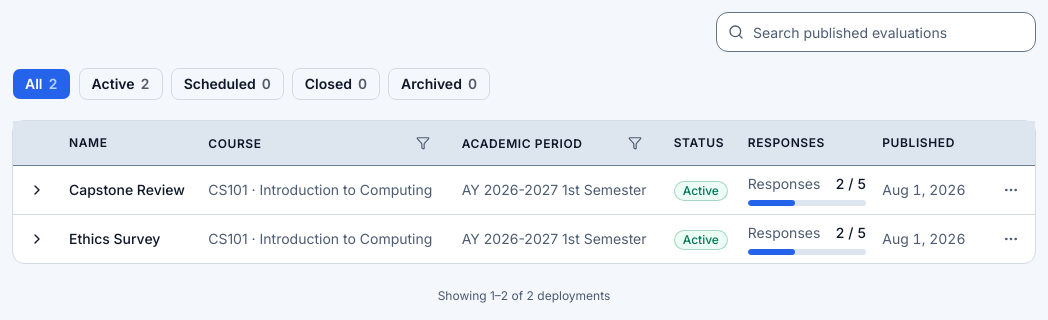
Test case: FacultyPublishedEvaluations › narrows the list by search text
Step 1. Type "ethics" into the search field named "Search evaluations" → (876, 32), box [716,12,1036,52]
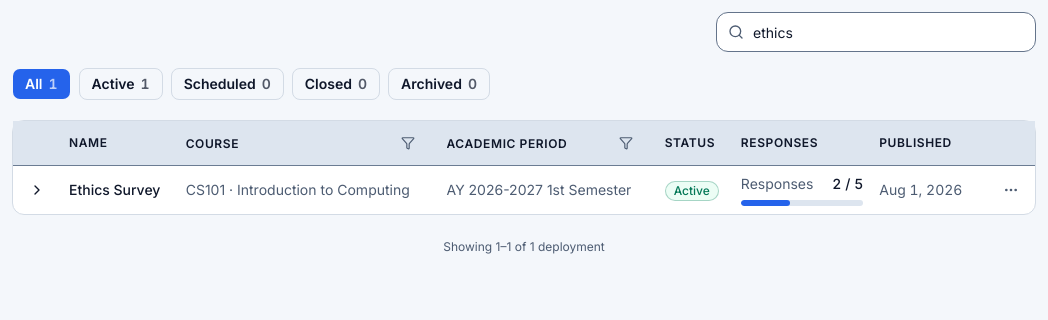
Expected: the text "Ethics Survey" is shown, [69,180,170,200]
Expected: the text "Capstone Review" is gone
